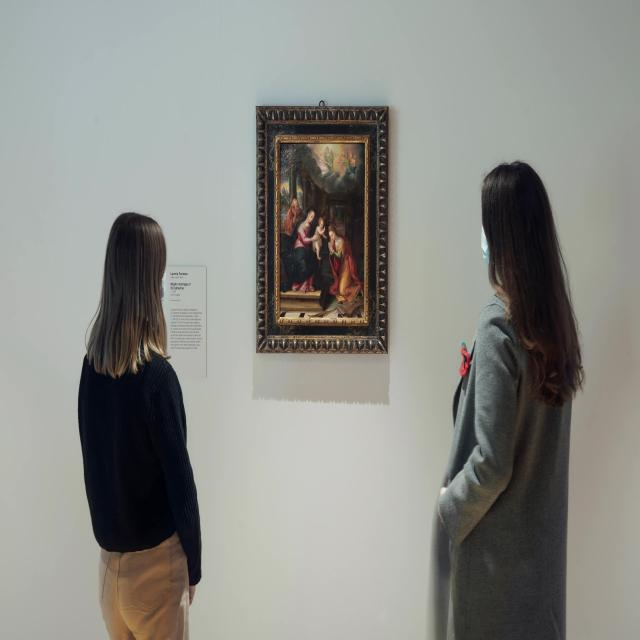painting: (257, 103, 389, 352)
